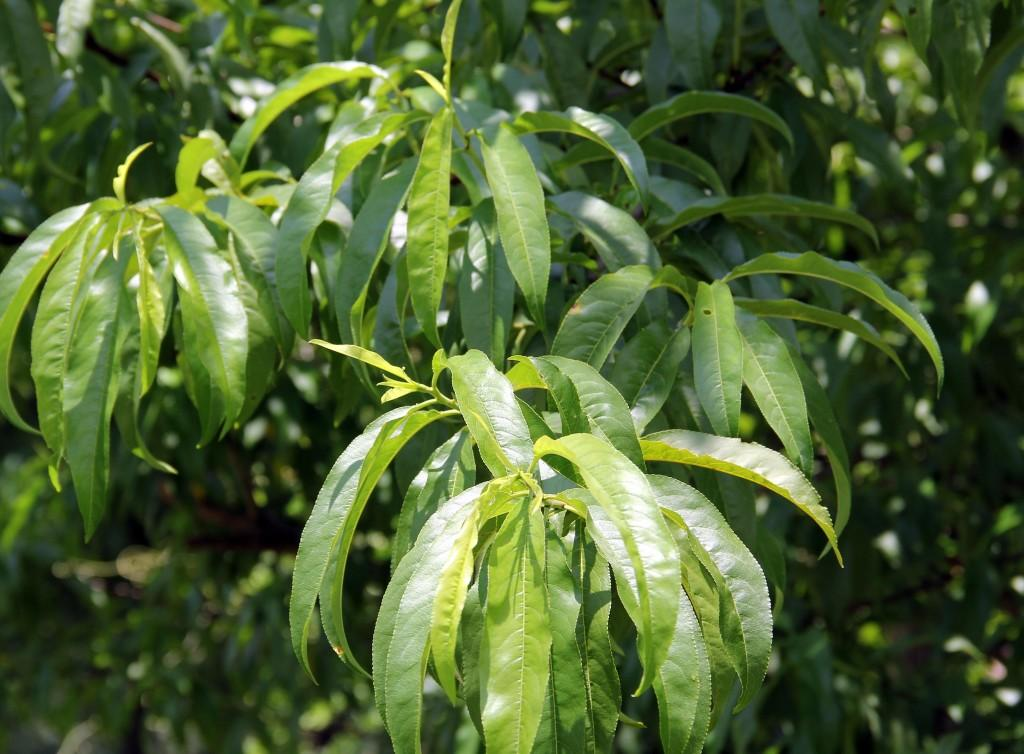Peach leaf: (270, 403, 434, 695), (534, 435, 678, 690), (724, 248, 948, 393), (646, 471, 767, 721), (631, 426, 845, 566), (51, 234, 141, 553), (470, 492, 555, 754), (155, 202, 245, 430), (471, 125, 548, 328), (432, 349, 538, 481), (429, 497, 492, 712), (398, 102, 452, 352)
